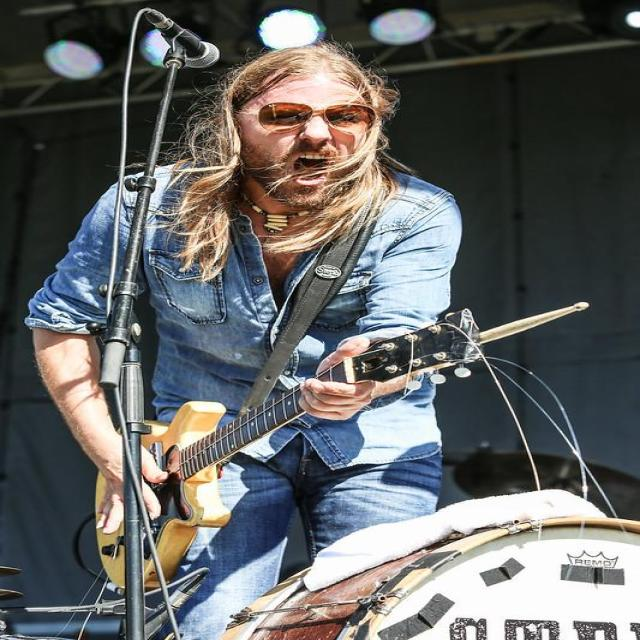guitar: (143, 387, 303, 577)
